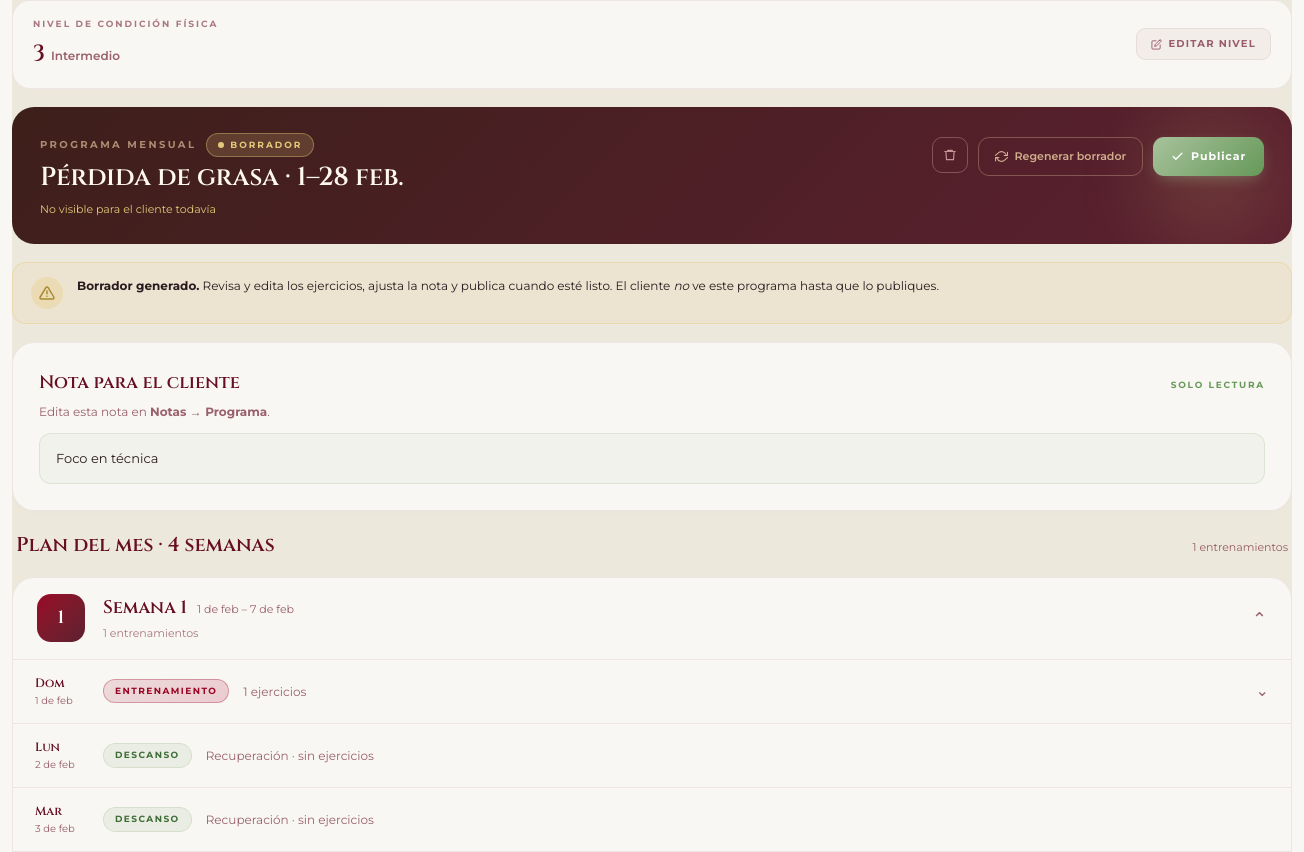
Test: ClientProgramTab › renders the time-based exercise display value with seconds suffix
Check: the text "Borrador" is shown, box [206,133,314,157]
Step 1. Click the text "1 ejercicios" → click(275, 691), box [243,684,306,699]
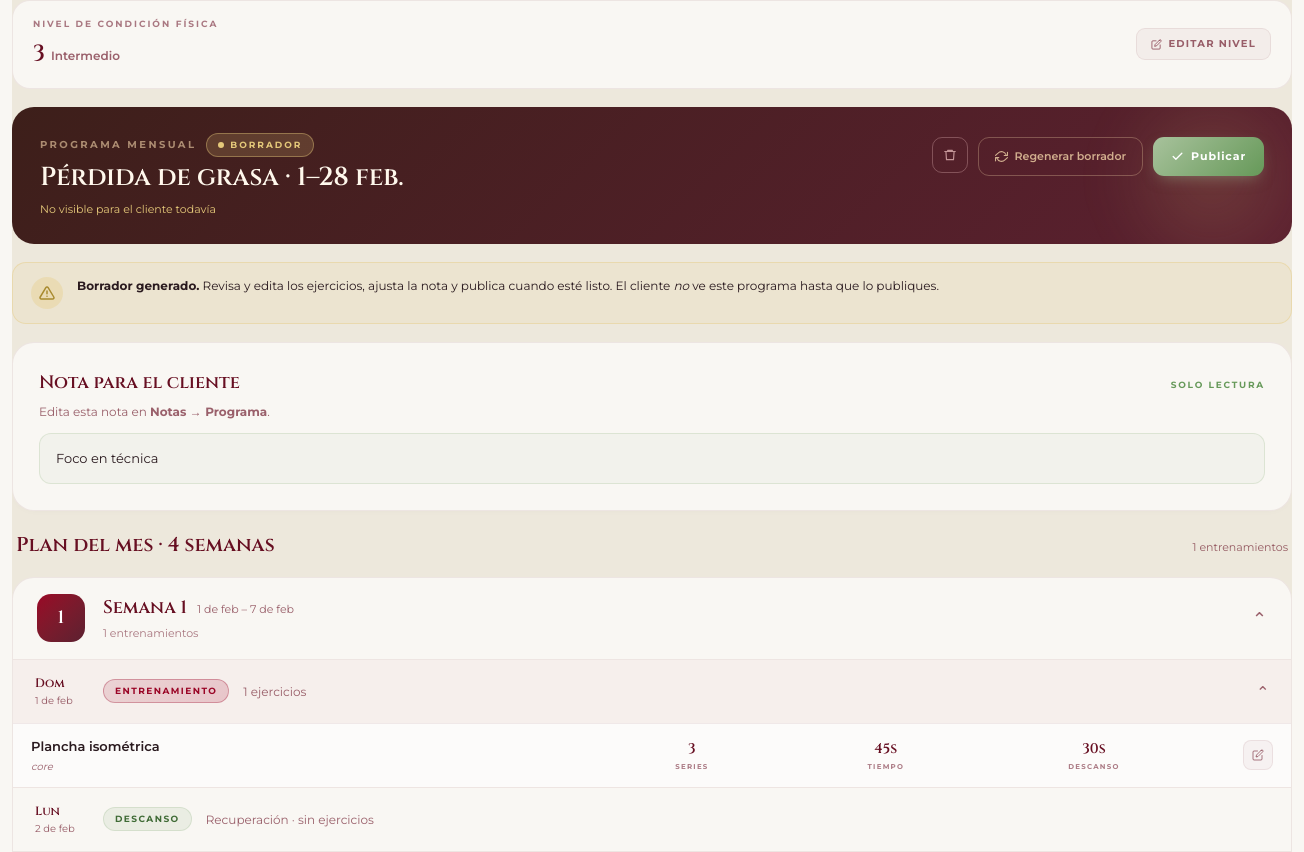
Check: the text "45s" is shown, box [874,739,897,758]
